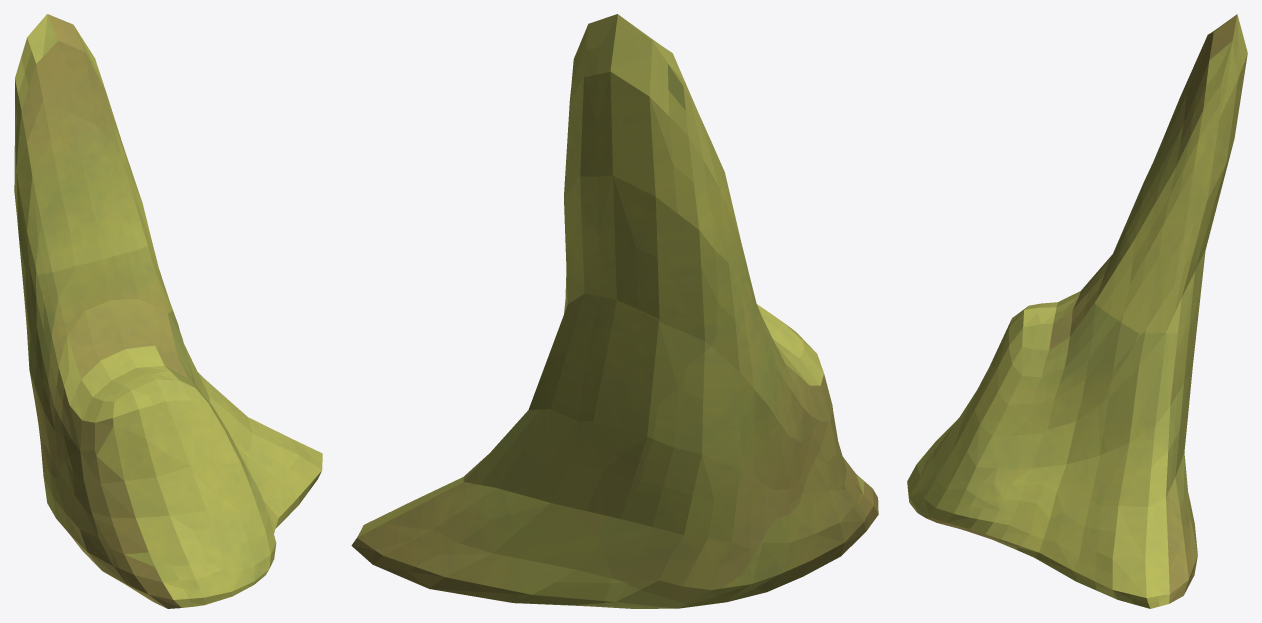
Rendered from spikyRock3.fbx.
3 views of the same model, side by side, from view 1: azimuth 30°, elevation 25°; view 2: azimuth 150°, elevation 25°; view 3: azimuth 270°, elevation 25° (orthographic). The views are drawn at different scales.
Visible parts, largest first — view 1: spikeRock2; view 2: spikeRock2; view 3: spikeRock2.
Boxes of the visible parts, left/top/right/bottom form: spikeRock2: left=14, top=14, right=322, bottom=608; spikeRock2: left=351, top=14, right=878, bottom=608; spikeRock2: left=907, top=14, right=1247, bottom=608.
Bounding box in the file's own units: 425 × 667 × 416.
